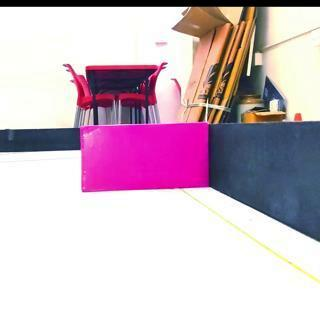xparking: (80, 121, 209, 191)
